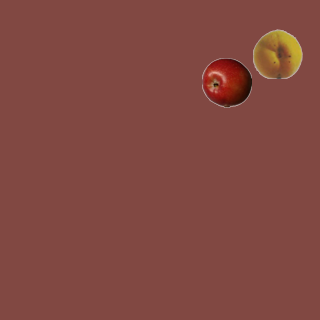Apple Braeburn: (201, 57, 251, 107)
Peach 2: (252, 28, 302, 78)
